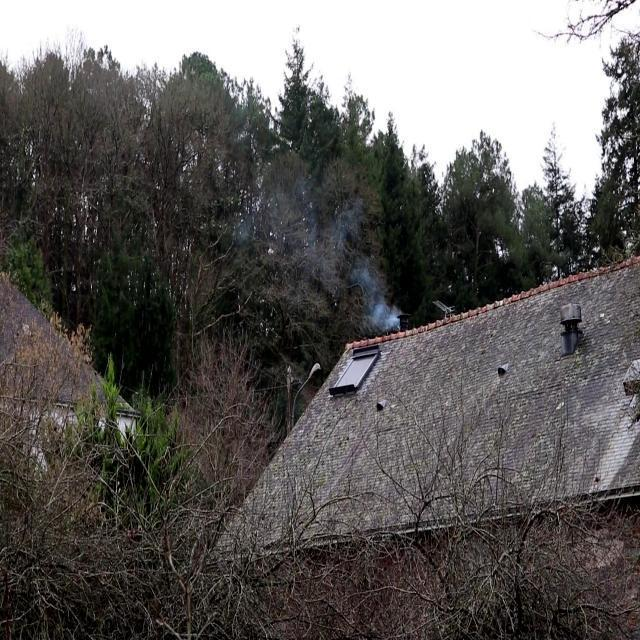Smoke: (362, 275, 405, 332)
